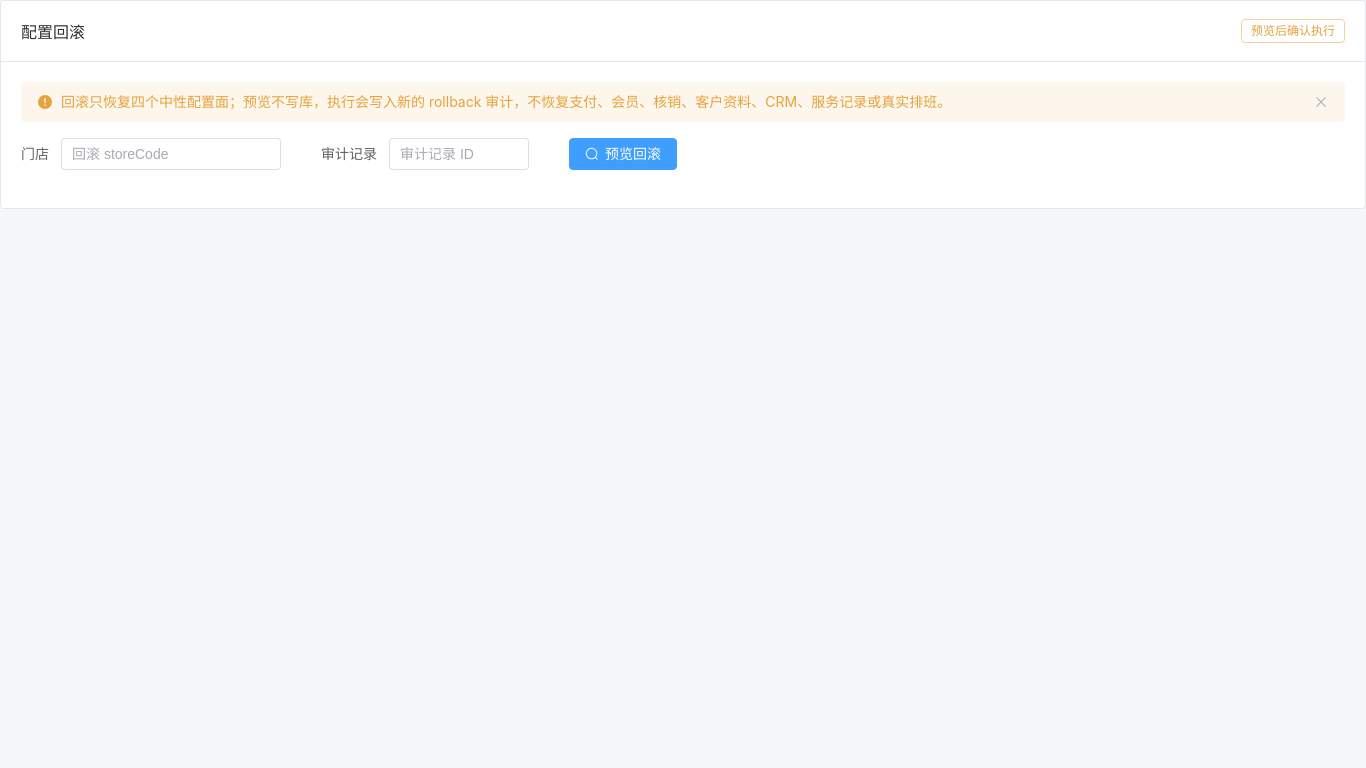
it: StoreAppointmentConfigRollbackPanel › previews rollback without executing it
Type "store-config-001" into the field with placeholder "回滚 storeCode" at (171, 154), box [72,139,270,169]
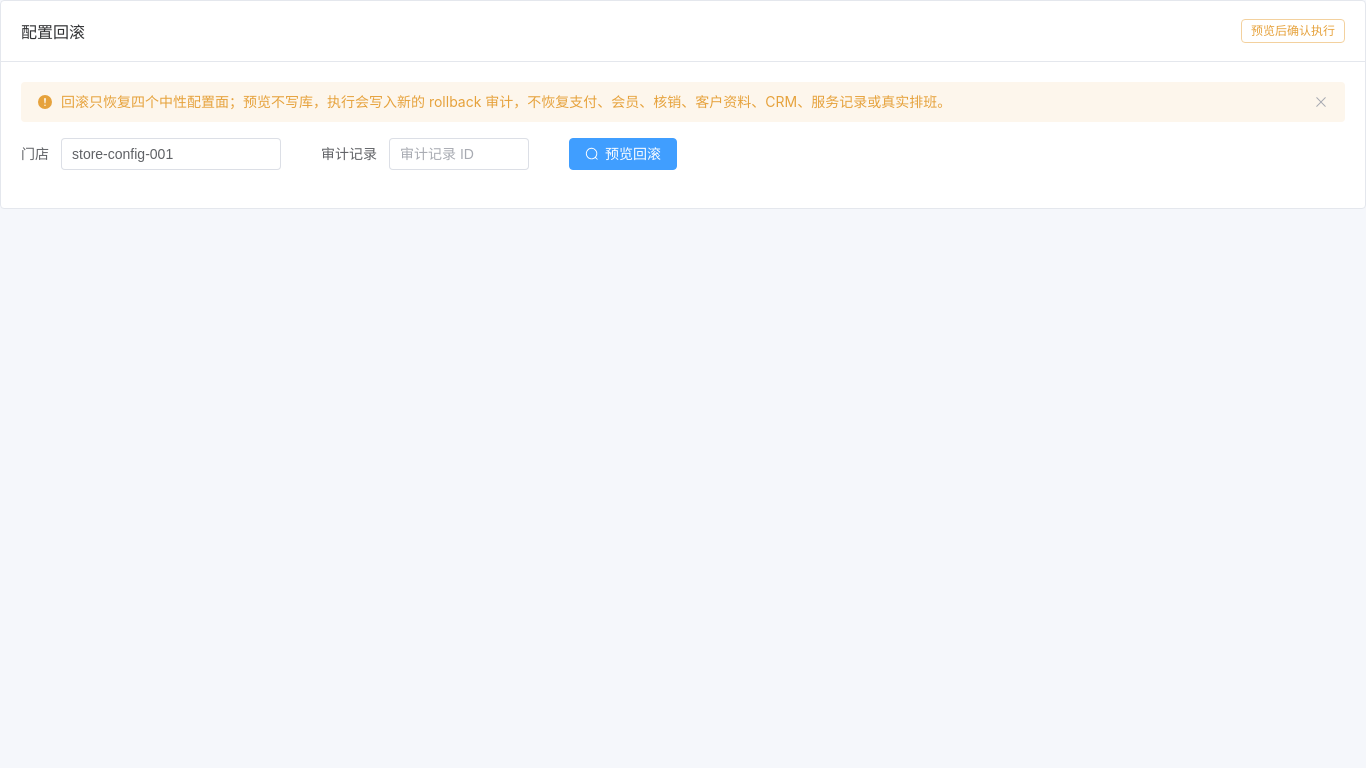
Type "9001" into the field with placeholder "审计记录 ID" at (459, 154), box [400,139,518,169]
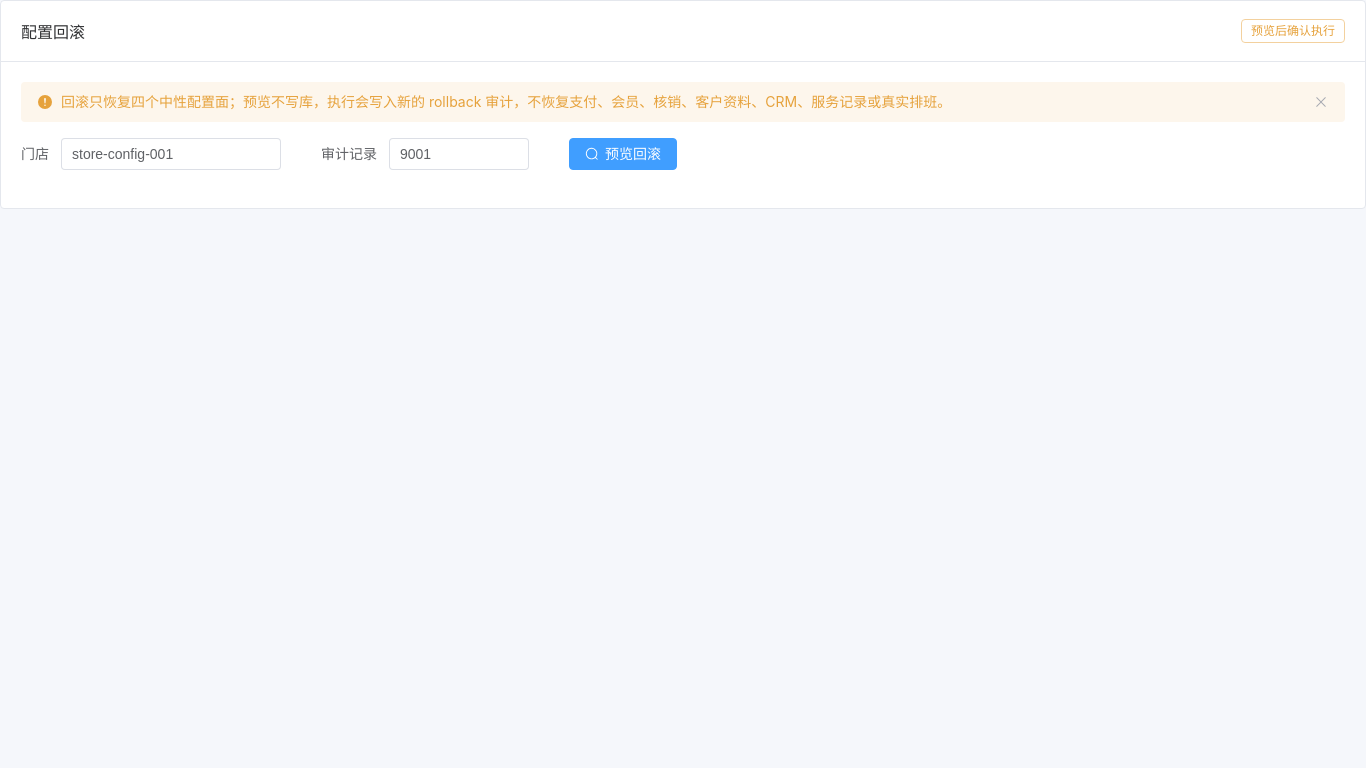
Click the button "预览回滚" at (623, 154), box [569,138,677,170]
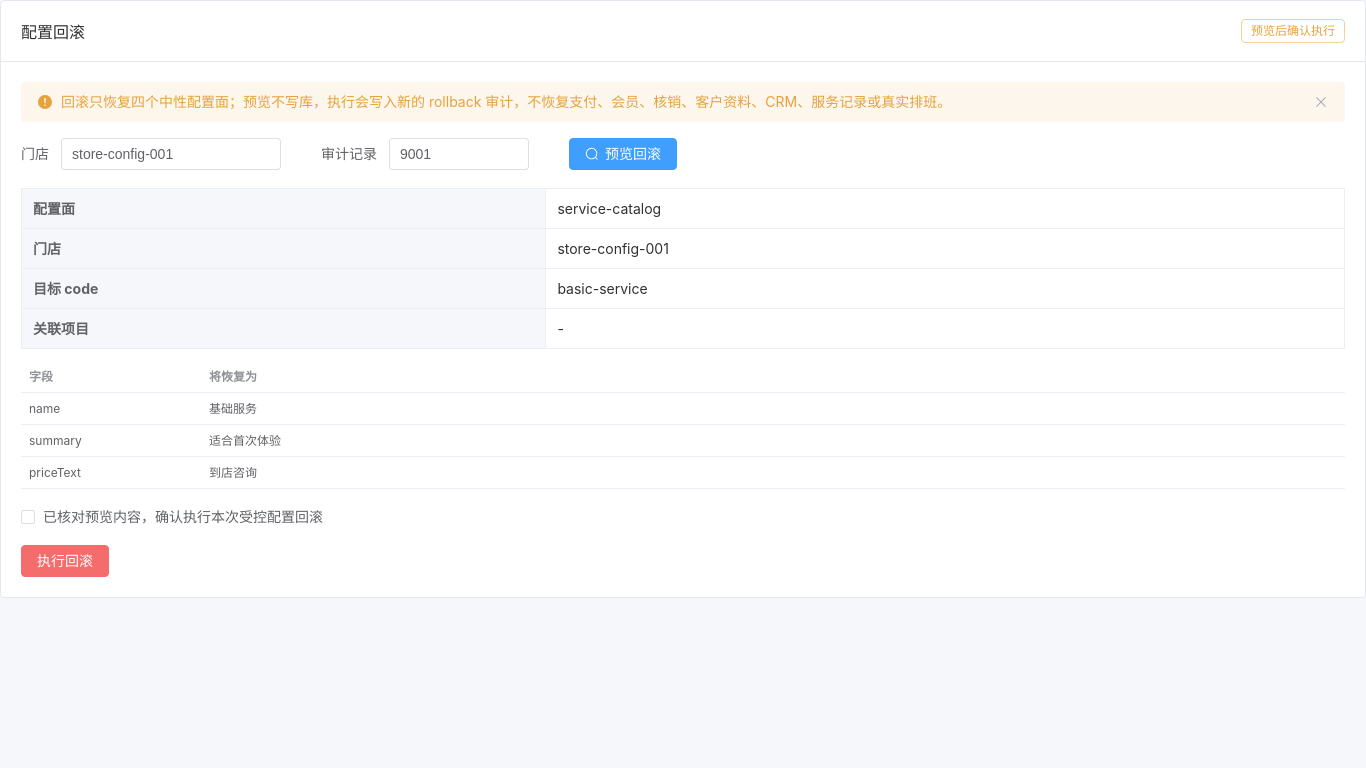
Expected: the text "service-catalog" is shown, [546,188,1344,228]
Expected: the text "basic-service" is shown, [546,268,1344,308]
Expected: the text "基础服务" is shown, [209,401,257,416]
